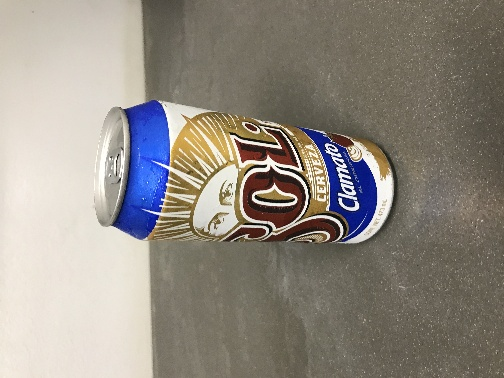SCL: (113, 91, 273, 172)
